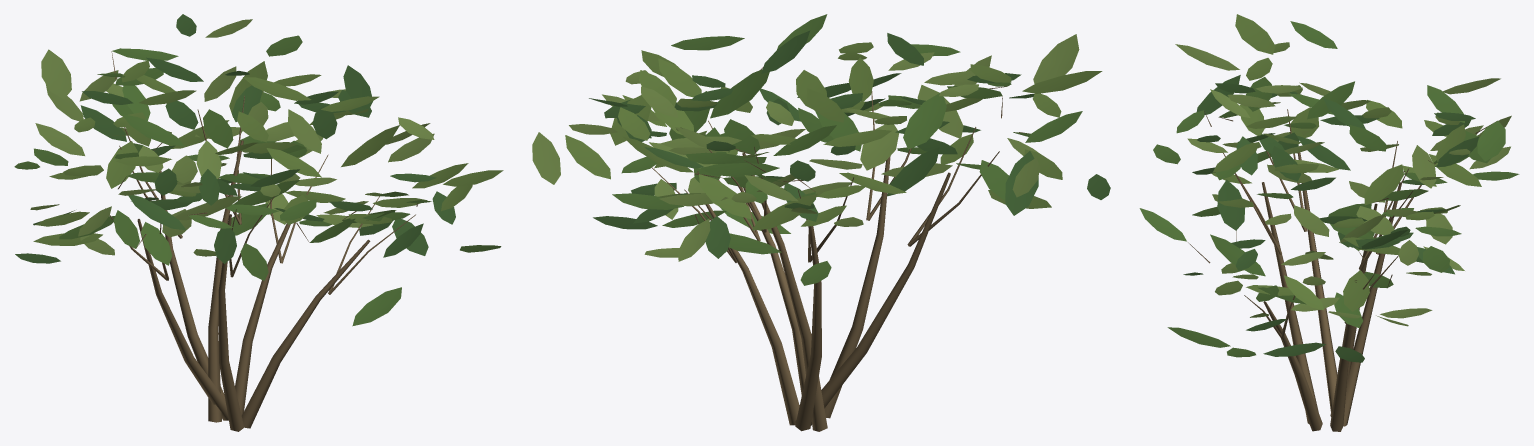
Rendered from Lentisque_1_Low.fbx.
The picture shows the model from 3 angles, left to right: view 1: azimuth 30°, elevation 25°; view 2: azimuth 150°, elevation 25°; view 3: azimuth 270°, elevation 25°; orthographic projection. The views are drawn at different scales.
Parts seen in each view (by area): view 1: Lentisque_1_Low; view 2: Lentisque_1_Low; view 3: Lentisque_1_Low.
Boxes of the visible parts, left/top/right/bottom form: Lentisque_1_Low: left=14, top=14, right=503, bottom=431; Lentisque_1_Low: left=532, top=14, right=1110, bottom=431; Lentisque_1_Low: left=1139, top=14, right=1519, bottom=431.
Size of the model in its own units: 251 by 183 by 191.
